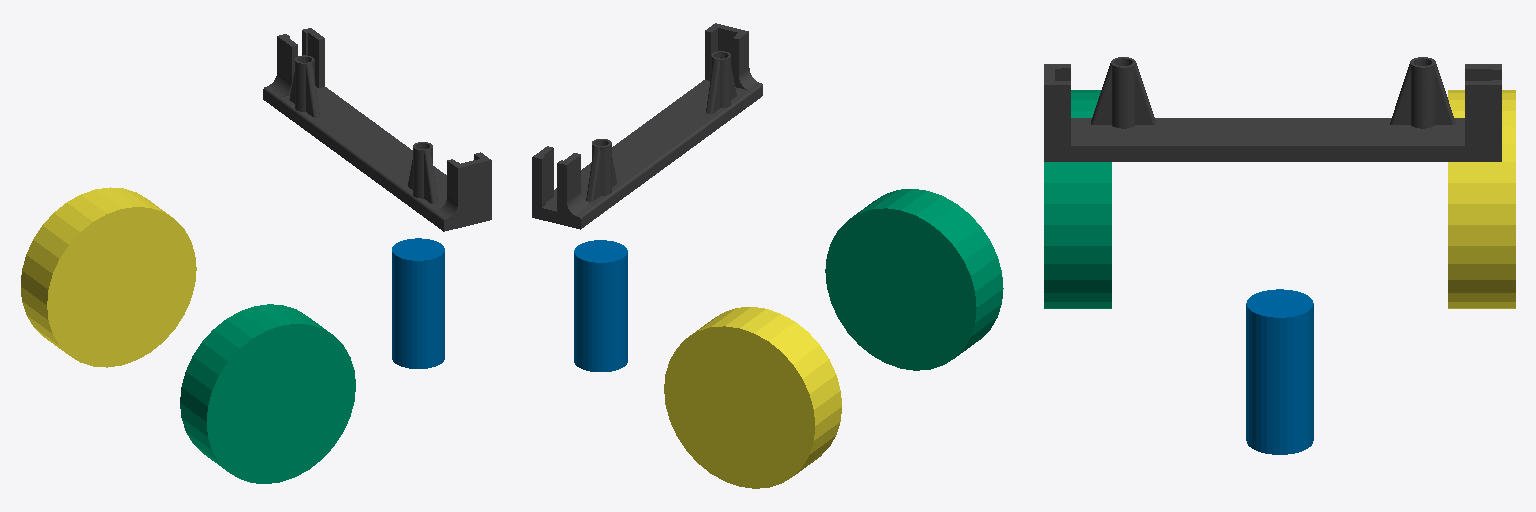
The robot description file, URDF, robot "turtlebot":
<?xml version="1.0" encoding="utf-8"?>
<!-- =================================================================================== -->
<!-- |    This document was autogenerated by xacro from mobile_r200.urdf.xacro         | -->
<!-- |    EDITING THIS FILE BY HAND IS NOT RECOMMENDED                                 | -->
<!-- =================================================================================== -->
<!--
    - Base      : kobumobile_robotki
    - 3d Sensor : r200
-->
<robot name="turtlebot">
  <!-- 
    These properties must be observed by any machine
    that wants to be defined as a turtlebot. Refer
    to the REP for more details.
    
    http://www.ros.org/reps/rep-0119.html
   -->
  <!-- 
    These properties must be observed by any machine
    that wants to be defined as a turtlebot. Refer
    to the REP for more details.
    
    http://www.ros.org/reps/rep-0119.html
   -->
  <link name="base_footprint"/>
  <!--
       Base link is set at the bottom of the base mould.
       This is done to be compatible with the way base link
       was configured for turtlebot 1. Refer to
       
       https://github.com/turtlebot/turtlebot/issues/40
       
       To put the base link at the more oft used wheel
       axis, set the z-distance from the base_footprint
       to 0.352.
      -->
  <joint name="base_joint" type="fixed">
    <!--
		  <origin xyz="0 0 0.0102" rpy="0 0 -${M_PI/2}" />
	  -->
    <origin rpy="0 0 1.570796327" xyz="0 0 0.0102"/>
    <parent link="base_footprint"/>
    <child link="base_link"/>
  </joint>
  <link name="base_link">
    <visual>
      <geometry>
        <!-- new mesh -->
        <mesh filename="package://mobile_robot_description/meshes/body/chasis.dae" scale="0.001 0.001 0.001"/>
      </geometry>
      <origin rpy="0 0 0" xyz="-0.07 -0.12 0"/>
    </visual>
    <collision>
      <geometry>
        <box size="0.14 0.23 0.05"/>
      </geometry>
      <origin rpy="0 0 0" xyz="0.0 -0.02 0"/>
    </collision>
    <inertial>
      <!-- COM experimentally determined -->
      <origin xyz="-0.07 -0.12 0"/>
      <mass value="0.01"/>
      <!-- 2.4/2.6 kg for small/big battery pack -->
      <inertia ixx="0.0001" ixy="0.0" ixz="0.0" iyy="0.0001" iyz="0.0" izz="0.0001"/>
    </inertial>
  </link>
  <!-- Wheel and caster wheel link  -->
  <!-- NOTE This may prevent gazebo from working with this model -->
  <joint name="right_wheel_joint" type="continuous">
    <origin rpy="0 0 0" xyz="-0.06 0 0"/>
    <parent link="base_link"/>
    <child link="right_wheel_link"/>
    <axis xyz="1 0 0"/>
    <limit effort="100" velocity="100"/>
    <joint_properties damping="0.0" friction="0.0"/>
  </joint>
  <link name="right_wheel_link">
    <inertial>
      <origin xyz="0 0 0"/>
      <mass value="0.01"/>
      <inertia ixx="0.001" ixy="0.0" ixz="0.0" iyy="0.001" iyz="0.0" izz="0.001"/>
    </inertial>
    <visual>
      <origin rpy="0 1.57079632679 0" xyz="0 0 0"/>
      <geometry>
        <cylinder length="0.02" radius="0.0325"/>
      </geometry>
      <material name="black"/>
    </visual>
    <collision>
      <origin rpy="0 1.57079632679 0" xyz="0 0 0"/>
      <geometry>
        <cylinder length="0.02" radius="0.0325"/>
      </geometry>
    </collision>
  </link>
  <link name="left_wheel_link">
    <inertial>
      <origin xyz="0 0 0"/>
      <mass value="0.01"/>
      <inertia ixx="0.001" ixy="0.0" ixz="0.0" iyy="0.001" iyz="0.0" izz="0.001"/>
    </inertial>
    <visual>
      <origin rpy="0 1.57079632679 0" xyz="0 0 0"/>
      <geometry>
        <cylinder length="0.02" radius="0.0325"/>
      </geometry>
      <material name="black"/>
    </visual>
    <collision>
      <origin rpy="0 1.57079632679 0" xyz="0 0 0"/>
      <geometry>
        <cylinder length="0.02" radius="0.0325"/>
      </geometry>
    </collision>
  </link>
  <!-- Fixed because we never rotate it anyway, it is just for show -->
  <!-- NOTE This may prevent gazebo from working with this model -->
  <joint name="left_wheel_joint" type="continuous">
    <origin rpy="0 0 0" xyz="0.06 0 0"/>
    <parent link="base_link"/>
    <child link="left_wheel_link"/>
    <axis xyz="1 0 0"/>
  </joint>
  <!--   
    <joint name="caster_front_joint" type="fixed">
      <parent link="base_link"/>
      <child link="chefbot_caster_front_link"/>
      <origin xyz="0.115 0.0 0.007" rpy="${-M_PI/2} 0 0"/>
    </joint>


    <link name="chefbot_caster_front_link">
      <collision>
        <geometry>
          <cylinder length="0.0176" radius="0.017"/>
        </geometry>
        <origin rpy="0 0 0" xyz="0 0 0"/>
      </collision>      
      <inertial>
        <mass value="0.01" />
        <origin xyz="0 0 0" />
        <inertia ixx="0.001" ixy="0.0" ixz="0.0"
                 iyy="0.001" iyz="0.0" 
                 izz="0.001" />
      </inertial>
    </link>
-->
  <joint name="robot_caster_back_joint" type="fixed">
    <parent link="base_link"/>
    <child link="robot_caster_back_link"/>
    <origin rpy="0 0 0" xyz="0 -0.1 0"/>
  </joint>
  <link name="robot_caster_back_link">
    <inertial>
      <origin xyz="0 0 0"/>
      <mass value="0.01"/>
      <inertia ixx="0.001" ixy="0.0" ixz="0.0" iyy="0.001" iyz="0.0" izz="0.001"/>
    </inertial>
    <visual>
      <origin rpy="0 0 0" xyz="0 0 -0.01"/>
      <geometry>
        <cylinder length="0.045" radius="0.01"/>
      </geometry>
      <material name="black"/>
    </visual>
    <collision>
      <origin rpy="0 0 0" xyz="0 0 -0.01"/>
      <geometry>
        <cylinder length="0.045" radius="0.01"/>
      </geometry>
    </collision>
  </link>


  <!--
  <xacro:include filename="$(find mobile_robot_description)/urdf/r200.urdf.xacro"/>
  <xacro:sensor_r200    parent="base_link"/>
-->
  <gazebo reference="left_wheel_link">
    <mu1>1.0</mu1>
    <mu2>1.0</mu2>
    <kp>1000000.0</kp>
    <kd>100.0</kd>
    <minDepth>0.001</minDepth>
    <maxVel>1.0</maxVel>
  </gazebo>
  <gazebo reference="right_wheel_link">
    <mu1>1.0</mu1>
    <mu2>1.0</mu2>
    <kp>1000000.0</kp>
    <kd>100.0</kd>
    <minDepth>0.001</minDepth>
    <maxVel>1.0</maxVel>
  </gazebo>
  <!--
    <gazebo reference="caster_front_link">
      <mu1>0.0</mu1>
      <mu2>0.0</mu2>
      <kp>1000000.0</kp>
      <kd>100.0</kd>
      <minDepth>0.001</minDepth>
      <maxVel>1.0</maxVel>
    </gazebo>
-->
  <gazebo reference="robot_caster_front_link">
    <mu1>0.0</mu1>
    <mu2>0.0</mu2>
    <kp>1000000.0</kp>
    <kd>100.0</kd>
    <minDepth>0.001</minDepth>
    <maxVel>1.0</maxVel>
  </gazebo>
  <gazebo reference="base_link">
    <mu1>0.3</mu1>
    <mu2>0.3</mu2>
    <sensor name="bumpers" type="contact">
      <always_on>1</always_on>
      <update_rate>50.0</update_rate>
      <visualize>true</visualize>
      <contact>
        <collision>base_footprint_fixed_joint_lump__base_collision</collision>
      </contact>
    </sensor>
  </gazebo>
  <gazebo reference="cliff_sensor_left_link">
    <sensor name="cliff_sensor_left" type="ray">
      <always_on>true</always_on>
      <update_rate>50</update_rate>
      <visualize>true</visualize>
      <ray>
        <scan>
          <horizontal>
            <samples>50</samples>
            <resolution>1.0</resolution>
            <min_angle>-0.0436</min_angle>
            <!-- -2.5 degree -->
            <max_angle>0.0436</max_angle>
            <!-- 2.5 degree -->
          </horizontal>
          <!--            Can't use vertical rays until this bug is resolved: -->
          <!--            https://bitbucket.org/osrf/gazebo/issue/509/vertical-sensor-doesnt-works -->
          <!--               <vertical> -->
          <!--                 <samples>50</samples> -->
          <!--                 <resolution>1.0</resolution> -->
          <!--                 <min_angle>-0.0436</min_angle>  -2.5 degree -->
          <!--                 <max_angle>0.0436</max_angle> 2.5 degree -->
          <!--               </vertical> -->
        </scan>
        <range>
          <min>0.01</min>
          <max>0.15</max>
          <resolution>1.0</resolution>
        </range>
      </ray>
    </sensor>
  </gazebo>
  <gazebo reference="cliff_sensor_right_link">
    <sensor name="cliff_sensor_right" type="ray">
      <always_on>true</always_on>
      <update_rate>50</update_rate>
      <visualize>true</visualize>
      <ray>
        <scan>
          <horizontal>
            <samples>50</samples>
            <resolution>1.0</resolution>
            <min_angle>-0.0436</min_angle>
            <!-- -2.5 degree -->
            <max_angle>0.0436</max_angle>
            <!-- 2.5 degree -->
          </horizontal>
          <!--            Can't use vertical rays until this bug is resolved: -->
          <!--            https://bitbucket.org/osrf/gazebo/issue/509/vertical-sensor-doesnt-works -->
          <!--               <vertical> -->
          <!--                 <samples>50</samples> -->
          <!--                 <resolution>1.0</resolution> -->
          <!--                 <min_angle>-0.0436</min_angle>  -2.5 degree -->
          <!--                 <max_angle>0.0436</max_angle> 2.5 degree -->
          <!--               </vertical> -->
        </scan>
        <range>
          <min>0.01</min>
          <max>0.15</max>
          <resolution>1.0</resolution>
        </range>
      </ray>
    </sensor>
  </gazebo>
  <gazebo reference="cliff_sensor_front_link">
    <sensor name="cliff_sensor_front" type="ray">
      <always_on>true</always_on>
      <update_rate>50</update_rate>
      <visualize>true</visualize>
      <ray>
        <scan>
          <horizontal>
            <samples>50</samples>
            <resolution>1.0</resolution>
            <min_angle>-0.0436</min_angle>
            <!-- -2.5 degree -->
            <max_angle>0.0436</max_angle>
            <!-- 2.5 degree -->
          </horizontal>
          <!--               Can't use vertical rays until this bug is resolved: -->
          <!--            https://bitbucket.org/osrf/gazebo/issue/509/vertical-sensor-doesnt-works -->
          <!--               <vertical> -->
          <!--                 <samples>50</samples> -->
          <!--                 <resolution>1.0</resolution> -->
          <!--                 <min_angle>-0.0436</min_angle>  -2.5 degree -->
          <!--                 <max_angle>0.0436</max_angle> 2.5 degree -->
          <!--               </vertical> -->
        </scan>
        <range>
          <min>0.01</min>
          <max>0.15</max>
          <resolution>1.0</resolution>
        </range>
      </ray>
    </sensor>
  </gazebo>
  <gazebo reference="gyro_link">
    <sensor name="imu" type="imu">
      <always_on>true</always_on>
      <update_rate>50</update_rate>
      <visualize>false</visualize>
      <imu>
        <noise>
          <type>gaussian</type>
          <rate>
            <mean>0.0</mean>
            <stddev>1.96e-06</stddev>
            <!-- 0.25 x 0.25 (deg/s) -->
            <bias_mean>0.0</bias_mean>
            <bias_stddev>0.0</bias_stddev>
          </rate>
          <accel>
            <!-- not used in the plugin and real robot, hence using tutorial values -->
            <mean>0.0</mean>
            <stddev>1.7e-2</stddev>
            <bias_mean>0.1</bias_mean>
            <bias_stddev>0.001</bias_stddev>
          </accel>
        </noise>
      </imu>
    </sensor>
  </gazebo>
  <gazebo>
    <plugin filename="libgazebo_ros_kobuki.so" name="kobuki_controller">
      <publish_tf>1</publish_tf>
      <left_wheel_joint_name>left_wheel_joint</left_wheel_joint_name>
      <right_wheel_joint_name>right_wheel_joint</right_wheel_joint_name>
      <wheel_separation>.130</wheel_separation>
      <wheel_diameter>0.0650</wheel_diameter>
      <torque>1.0</torque>
      <velocity_command_timeout>0.6</velocity_command_timeout>
      <cliff_sensor_left_name>cliff_sensor_left</cliff_sensor_left_name>
      <cliff_sensor_center_name>cliff_sensor_front</cliff_sensor_center_name>
      <cliff_sensor_right_name>cliff_sensor_right</cliff_sensor_right_name>
      <cliff_detection_threshold>0.04</cliff_detection_threshold>
      <bumper_name>bumpers</bumper_name>
      <imu_name>imu</imu_name>
    </plugin>
  </gazebo>
  <!--
    ==  Mount and camera body joints & links ==
    -->
  <!-- right bracket end 
    <joint name="bracket_end_right_joint" type="fixed">
      <origin xyz="${pole_px} ${pole_py} ${pole_pz}" rpy="0 0 -${M_PI_2}"/>
      <parent link="${parent}"/>
      <child link="bracket_end_right" />
    </joint>
    <link name="bracket_end_right">
    <visual>
       <origin xyz="${-r200_bracket_end_width/2} ${r200_bracket_end_offset_py} ${r200_bracket_end_offset_pz}" rpy="0 0 ${-M_PI/2}"/>
        <geometry>
         <mesh filename="package://mobile_robot_description/meshes/sensors/r200_bracket_end.stl" scale="0.001 0.001 0.001"/>
        </geometry>
        <xacro:insert_block name="material_dark_grey" />
      </visual>
    </link>-->
  <!-- center main bracket -->
  <joint name="bracket_joint" type="fixed">
    <!--<origin xyz="${r200_bracket_width/2+0.07} ${r200_bracket_offset_py} ${r200_bracket_offset_pz}" rpy="0 0 0"/>-->
    <origin rpy="0 0 -1.570796327" xyz="-0.09 -0.098 0.055"/>
    <parent link="base_link"/>
    <child link="bracket"/>
  </joint>
  <link name="bracket">
    <visual>
      <origin rpy="0 0 1.57079632679" xyz="0 0 0"/>
      <geometry>
        <mesh filename="package://mobile_robot_description/meshes/sensors/r200_camera_bracket.stl" scale="0.0001 0.0001 0.0001"/>
      </geometry>
      <material name="dark_grey">
        <color rgba="0.3 0.3 0.3 1"/>
      </material>
    </visual>
  </link>
  <!-- left bracket end 
    <joint name="bracket_end_left_joint" type="fixed">
      <origin xyz="${-r200_bracket_width/2} ${r200_bracket_length - r200_bracket_offset_py} ${-r200_bracket_offset_pz}" rpy="0 0 0"/>
      <parent link="bracket"/>
      <child link="bracket_end_left" />
    </joint>
    <link name="bracket_end_left">
    <visual>
       <origin xyz="${r200_bracket_end_width/2} 0 ${-r200_bracket_end_offset_pz}" rpy="0 0 ${M_PI/2}"/>
        <geometry>
         <mesh filename="package://mobile_robot_description/meshes/sensors/r200_bracket_end.stl" scale="0.001 0.001 0.001"/>
        </geometry>
        <xacro:insert_block name="material_dark_grey" />
      </visual>
    </link>
 -->
  <!-- camera body -->
  <joint name="camera_joint" type="fixed">
    <origin rpy="0 0 0" xyz="-0.017 0.024 0.005"/>
    <parent link="bracket"/>
    <child link="camera_link"/>
  </joint>
  <link name="camera_link">
    <visual>
      <origin rpy="1.57079632679 0 1.57079632679" xyz="0 0 0"/>
      <geometry>
        <mesh filename="package://mobile_robot_description/meshes/sensors/r200.dae"/>
      </geometry>
    </visual>
    <collision>
      <origin rpy="0 0 0" xyz="0.0 0.07 0.0"/>
      <geometry>
        <box size="0.05 0.14 0.05"/>
      </geometry>
    </collision>
    --&gt;
 
      
    <!-- This inertial field needs doesn't contain reliable data!! -->
    <inertial>
      <mass value="0.01"/>
      <origin xyz="-0.3 -0.15 0"/>
      <inertia ixx="0.0001" ixy="0.0" ixz="0.0" iyy="0.0001" iyz="0.0" izz="0.0001"/>
    </inertial>
  </link>
  <!--
    ==  RGB joints & links ==
    -->
  <joint name="camera_rgb_joint" type="fixed">
    <origin rpy="0 0 0" xyz="0.005 0.018 0.013"/>
    <parent link="camera_link"/>
    <child link="camera_rgb_frame"/>
  </joint>
  <link name="camera_rgb_frame"/>
  <joint name="camera_rgb_optical_joint" type="fixed">
    <origin rpy="-1.57079632679 0 -1.57079632679" xyz="0 0 0"/>
    <parent link="camera_rgb_frame"/>
    <child link="camera_rgb_optical_frame"/>
  </joint>
  <link name="camera_rgb_optical_frame"/>
  <!--
    ==  Depth joints & links ==
    -->
  <joint name="camera_depth_joint" type="fixed">
    <origin rpy="0 0 0" xyz="0 0.01 0"/>
    <parent link="camera_rgb_frame"/>
    <child link="camera_depth_frame"/>
  </joint>
  <link name="camera_depth_frame"/>
  <joint name="camera_depth_optical_joint" type="fixed">
    <origin rpy="-1.57079632679 0 -1.57079632679" xyz="0 0 0"/>
    <parent link="camera_depth_frame"/>
    <child link="camera_depth_optical_frame"/>
  </joint>
  <link name="camera_depth_optical_frame"/>
  <gazebo reference="camera_link">
    <sensor name="camera" type="depth">
      <always_on>true</always_on>
      <update_rate>20.0</update_rate>
      <camera>
        <horizontal_fov>1.0471975512</horizontal_fov>
        <image>
          <format>B8G8R8</format>
          <width>640</width>
          <height>480</height>
        </image>
        <clip>
          <near>0.05</near>
          <far>8.0</far>
        </clip>
      </camera>
      <plugin filename="libgazebo_ros_openni_kinect.so" name="kinect_camera_controller">
        <cameraName>camera</cameraName>
        <alwaysOn>true</alwaysOn>
        <updateRate>10</updateRate>
        <imageTopicName>rgb/image_raw</imageTopicName>
        <depthImageTopicName>depth/image_raw</depthImageTopicName>
        <pointCloudTopicName>depth/points</pointCloudTopicName>
        <cameraInfoTopicName>rgb/camera_info</cameraInfoTopicName>
        <depthImageCameraInfoTopicName>depth/camera_info</depthImageCameraInfoTopicName>
        <frameName>camera_depth_optical_frame</frameName>
        <baseline>0.1</baseline>
        <distortion_k1>0.0</distortion_k1>
        <distortion_k2>0.0</distortion_k2>
        <distortion_k3>0.0</distortion_k3>
        <distortion_t1>0.0</distortion_t1>
        <distortion_t2>0.0</distortion_t2>
        <pointCloudCutoff>0.4</pointCloudCutoff>
      </plugin>
    </sensor>
  </gazebo>
</robot>

--- What the picture shows (computed from the rendered views, not written in the file) ---
The picture shows the robot from 3 angles, left to right: view 1: azimuth 30°, elevation 25°; view 2: azimuth 150°, elevation 25°; view 3: azimuth 270°, elevation 25°; orthographic projection.
Model turtlebot with 11 links and 10 joints (2 continuous, 8 fixed), rooted at base_footprint, posed all joints at 0.
Visible links, largest first — view 1: left_wheel_link, right_wheel_link, bracket, robot_caster_back_link; view 2: right_wheel_link, left_wheel_link, bracket, robot_caster_back_link; view 3: bracket, left_wheel_link, robot_caster_back_link, right_wheel_link.
Boxes of the visible links, left/top/right/bottom form: left_wheel_link: left=21, top=187, right=196, bottom=367; right_wheel_link: left=180, top=304, right=355, bottom=483; bracket: left=263, top=28, right=491, bottom=231; robot_caster_back_link: left=392, top=238, right=444, bottom=368; right_wheel_link: left=825, top=189, right=1003, bottom=370; left_wheel_link: left=664, top=307, right=841, bottom=488; bracket: left=532, top=23, right=762, bottom=229; robot_caster_back_link: left=574, top=240, right=627, bottom=371; bracket: left=1044, top=57, right=1501, bottom=161; left_wheel_link: left=1448, top=90, right=1515, bottom=308; robot_caster_back_link: left=1246, top=289, right=1313, bottom=454; right_wheel_link: left=1044, top=90, right=1111, bottom=308.
Bounding box of the posed robot: 0.1425 × 0.14 × 0.1125 m (x, y, z).
1 mesh visuals loaded from 3 distinct referenced files (1 binary STL); not drawn: 2 (reference not matched to a file when rendering).
